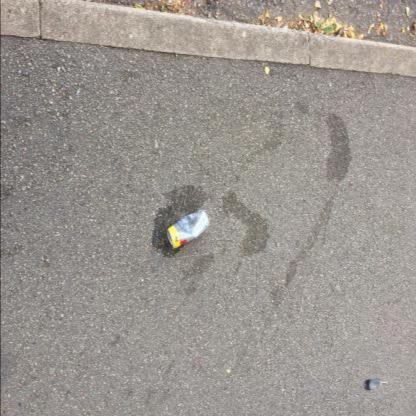Can: (167, 209, 209, 249)
Pop tab: (167, 235, 172, 242)
